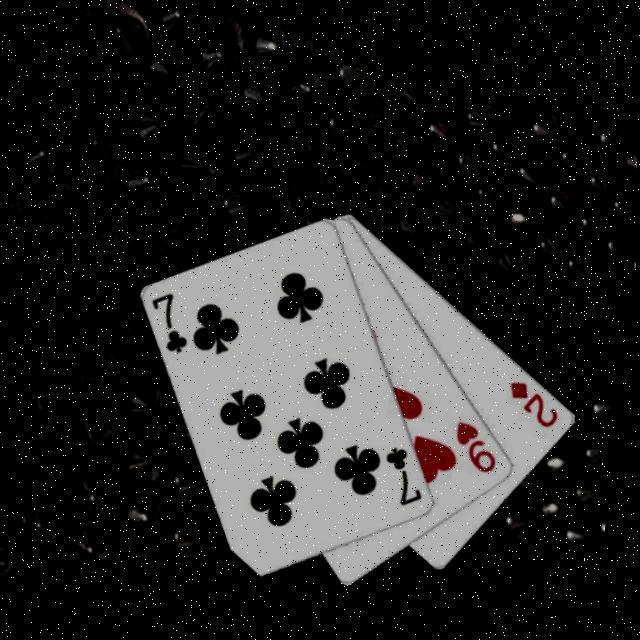2D: (500, 378, 565, 434)
7C: (140, 290, 197, 360), (375, 445, 432, 513)
9H: (446, 419, 504, 479)
